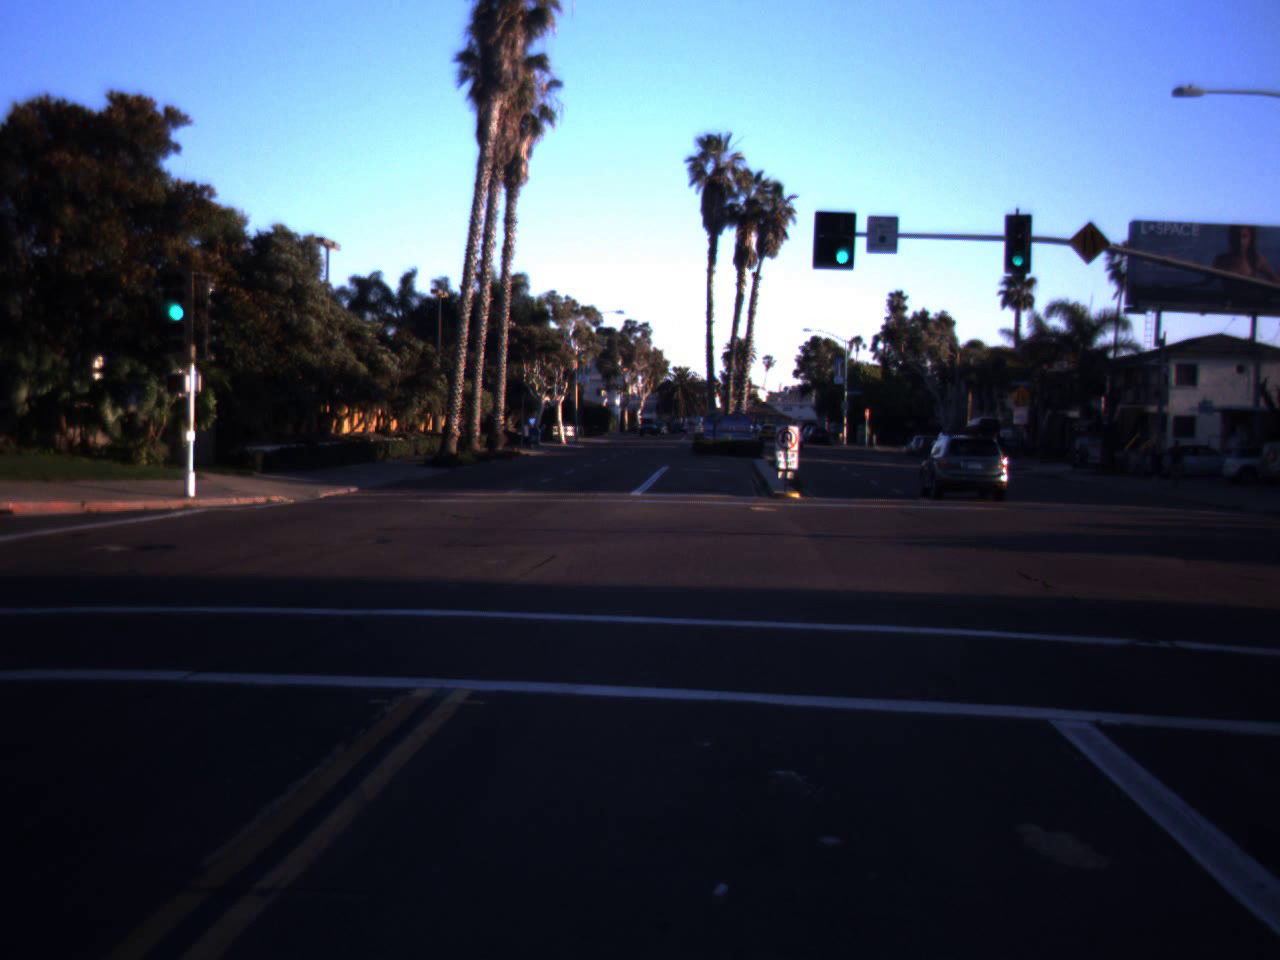go: (157, 257, 196, 327), (826, 213, 859, 268), (1003, 221, 1033, 271)
